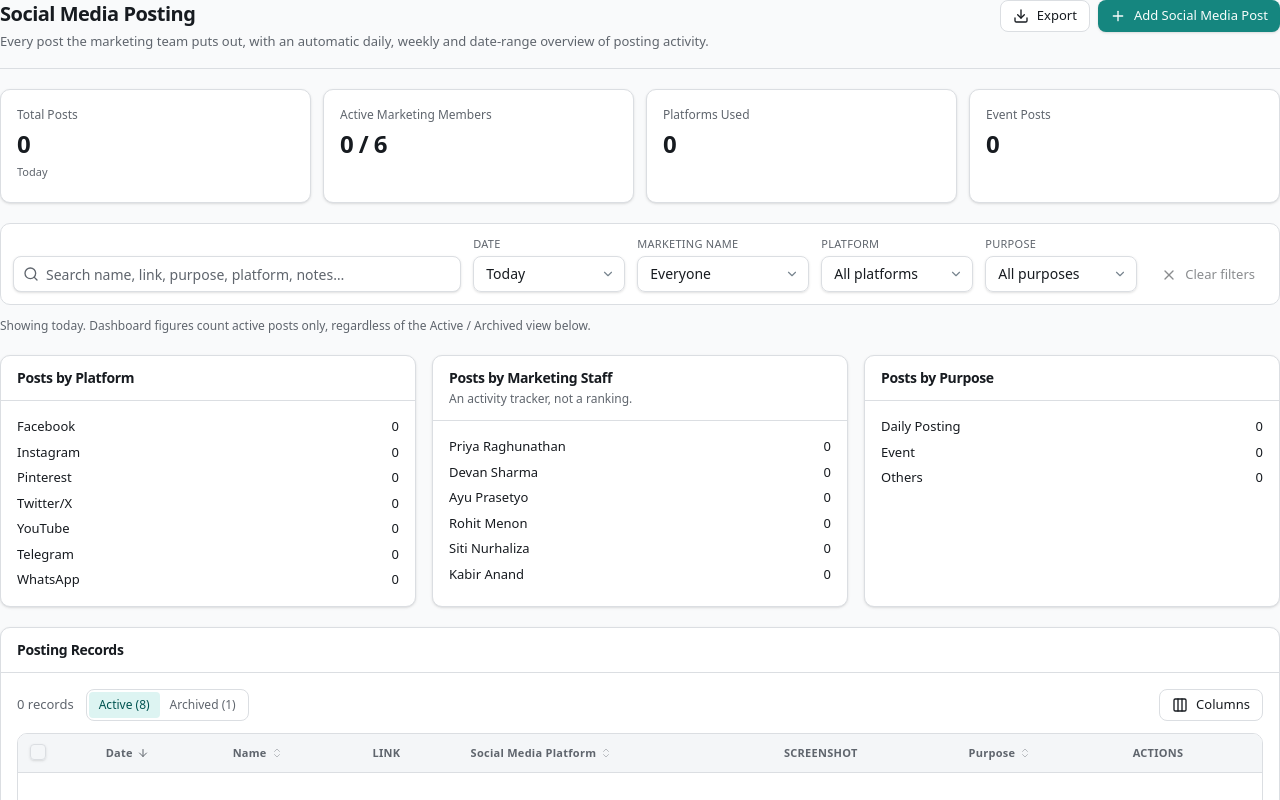
Test case: Social Media Posting — create, archive, restore › logging a post shows it in the table and updates the dashboard
Click the button "Add Social Media Post" at (1189,16), box left=1098, top=0, right=1279, bottom=32
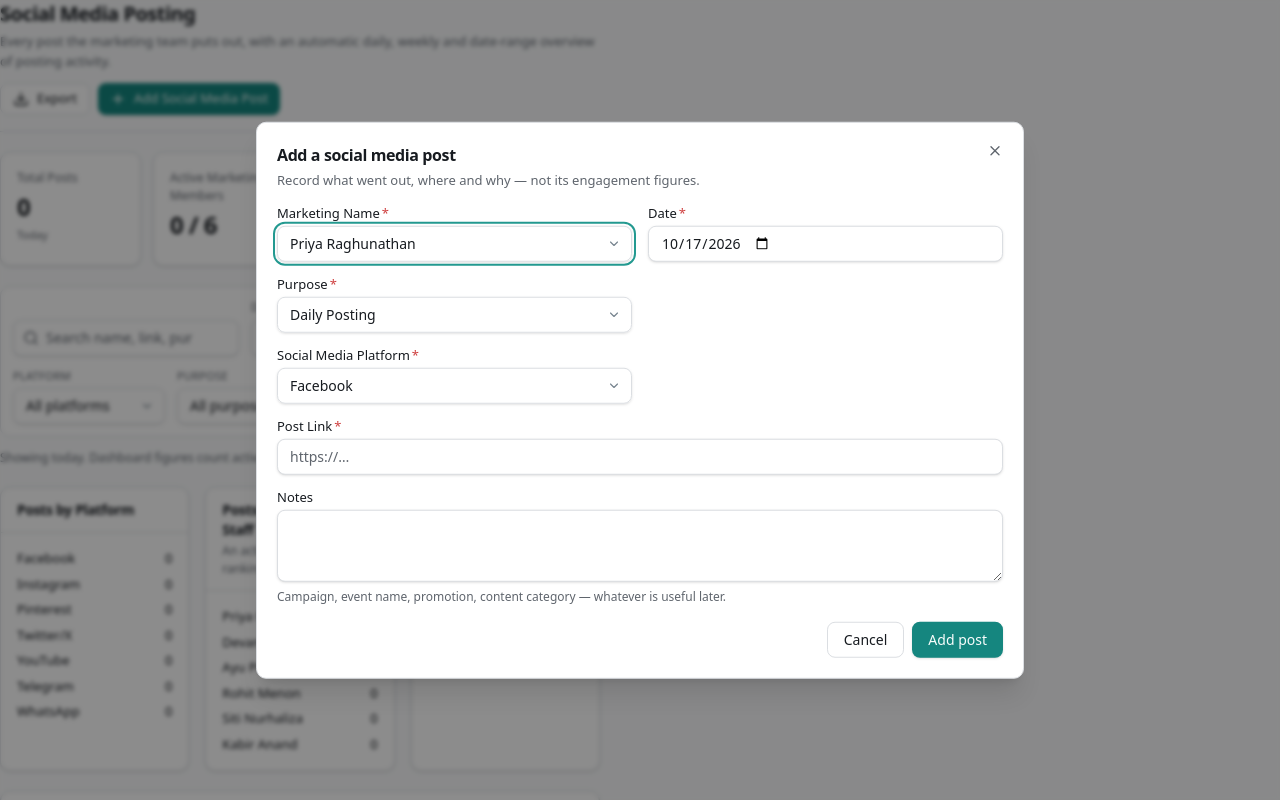
Select "Devan Sharma" in the dropdown with id "smp-member" at (454,243), box left=277, top=225, right=632, bottom=261
Select "Others" in the dropdown with id "smp-purpose" at (454,314), box left=277, top=296, right=632, bottom=332
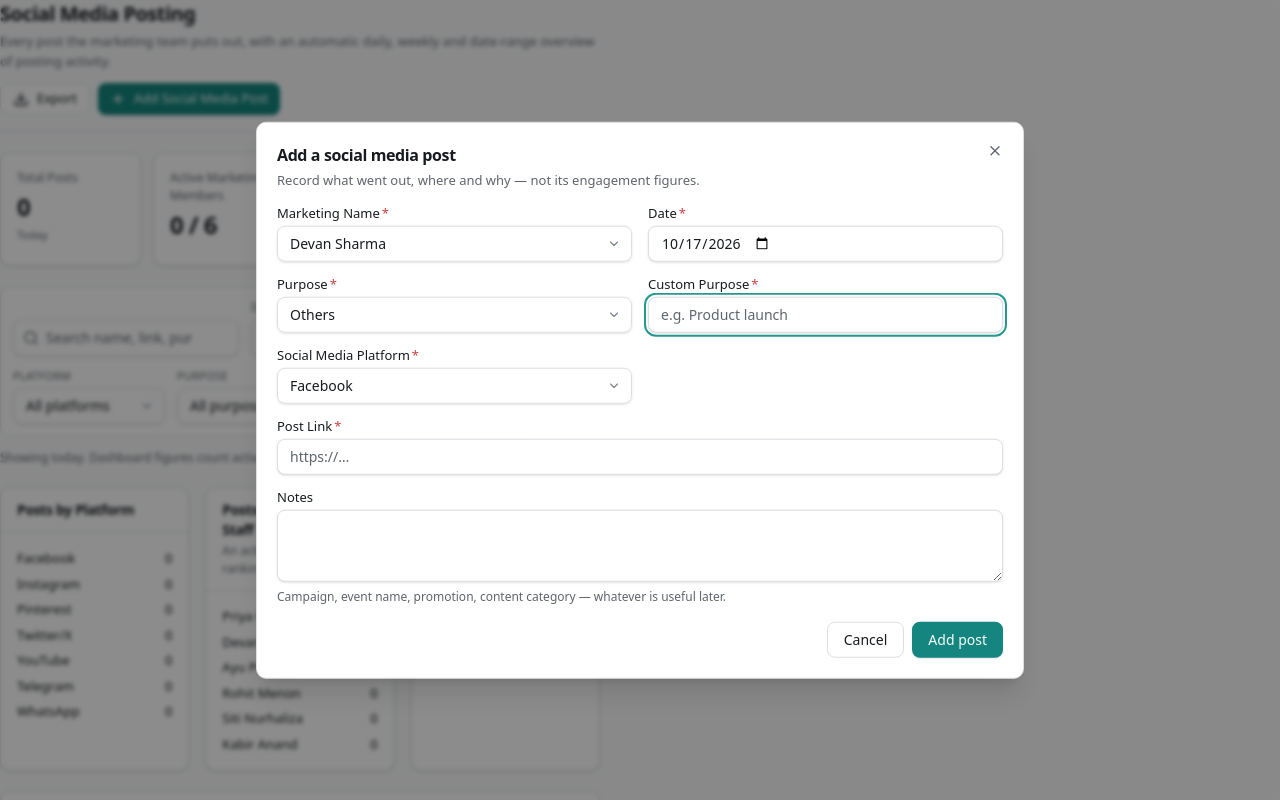
Type "Flash sale" into the field labelled "Custom Purpose*" at (826,314), box left=648, top=296, right=1003, bottom=332
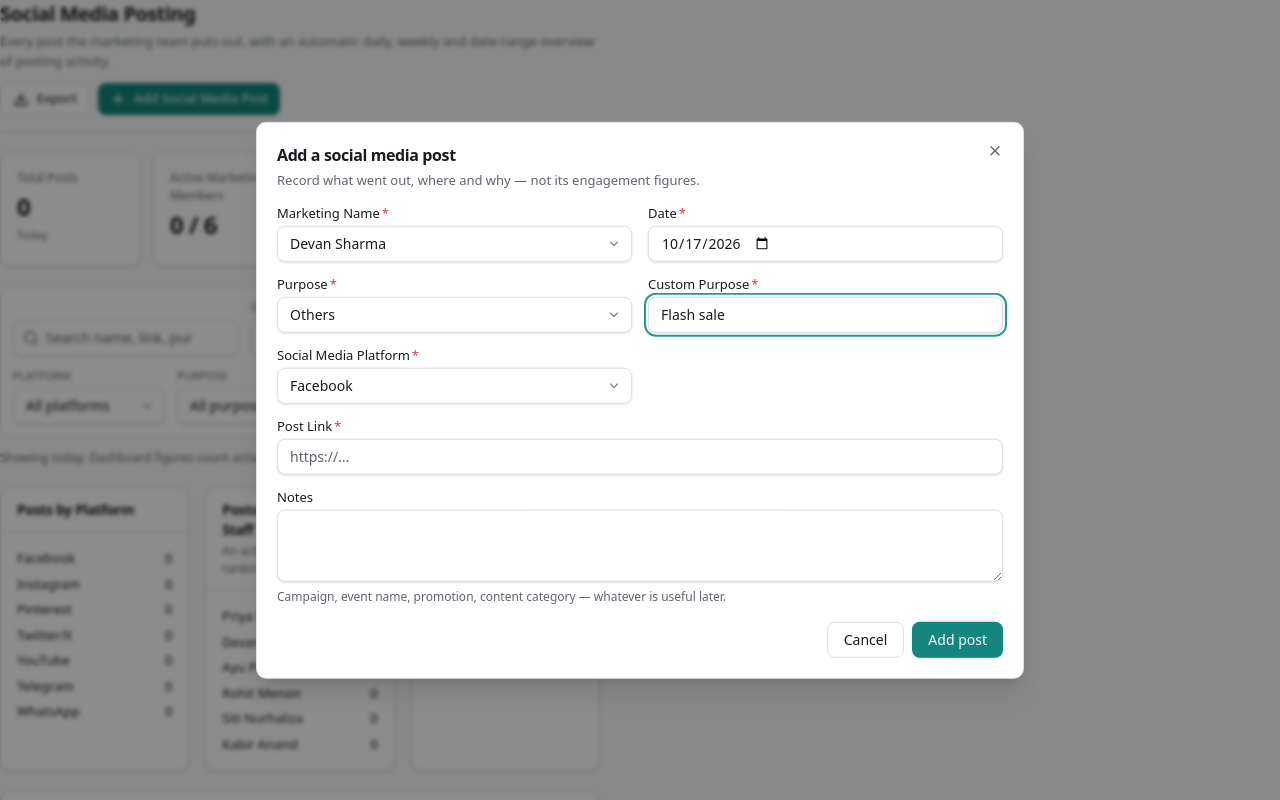
Select "Pinterest" in the dropdown with id "smp-platform" at (454,385), box left=277, top=367, right=632, bottom=403
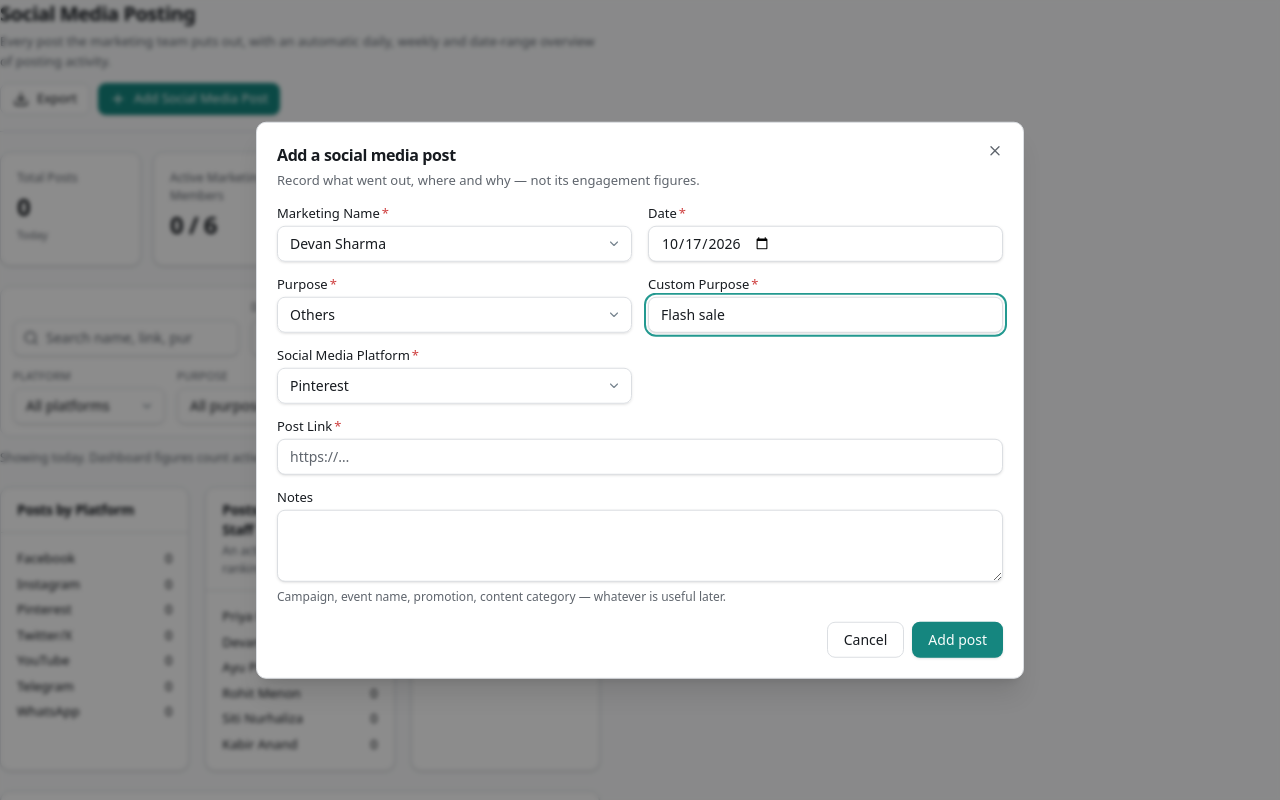
Type "https://pinterest.com/pin/123" into the field labelled "Post Link*" at (640,456), box left=277, top=438, right=1003, bottom=474
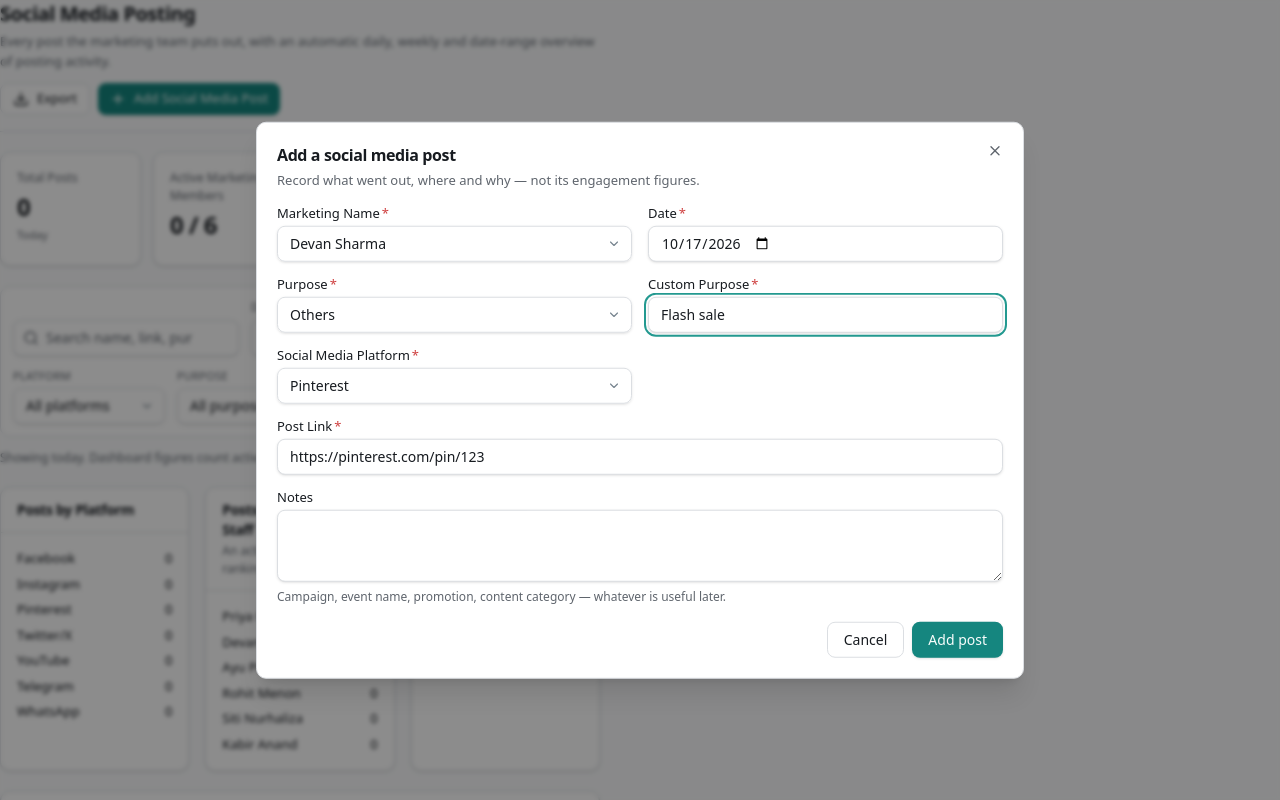
Click the button "Add post" at (958,639), box left=912, top=621, right=1003, bottom=657
(page scrolled)
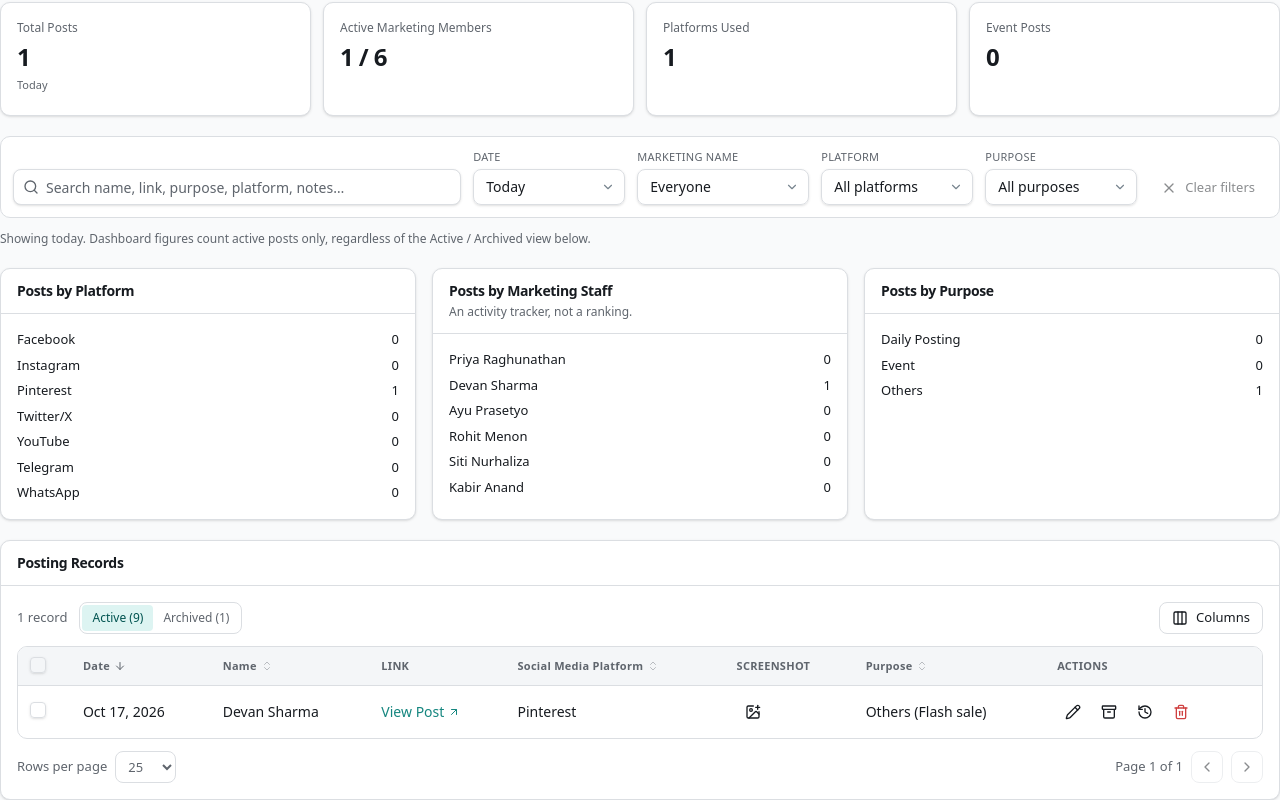
Now the dialog is gone
Now the number of links "View Post" is 1, box left=381, top=702, right=460, bottom=722
Now the text "Pinterest" is shown, box left=506, top=686, right=725, bottom=738
